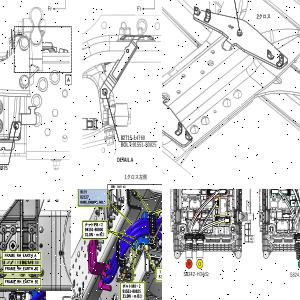PartNumber: (183, 271, 210, 277), (120, 134, 146, 140), (132, 142, 157, 148), (122, 288, 141, 294), (84, 227, 104, 232), (288, 270, 300, 278), (0, 164, 8, 171), (158, 274, 162, 279)
